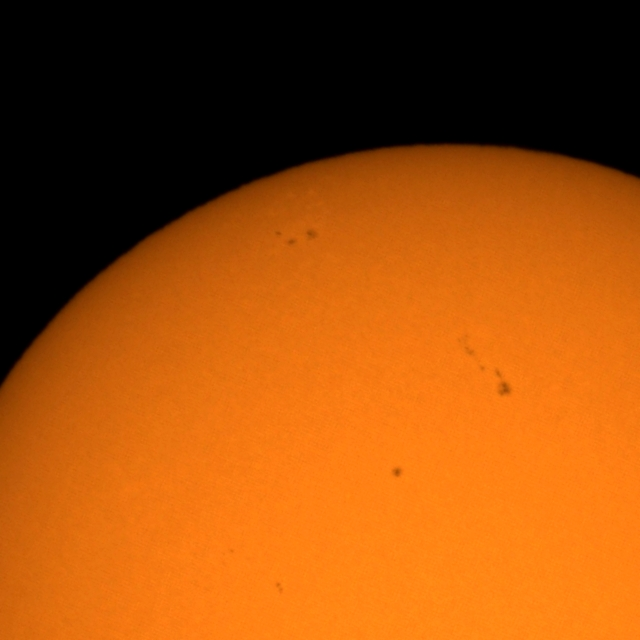sunspot: (463, 343, 488, 373), (491, 366, 514, 397), (274, 230, 296, 247), (305, 228, 319, 242), (390, 466, 404, 480), (274, 580, 285, 596), (221, 547, 236, 557), (274, 230, 282, 237)
